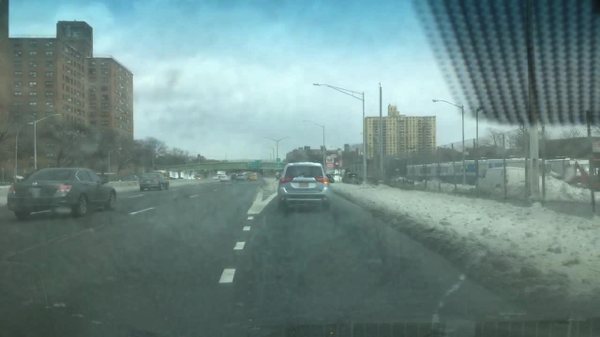car: (6, 167, 117, 219), (277, 162, 330, 215), (475, 167, 529, 194), (137, 172, 169, 191), (341, 171, 357, 184), (120, 174, 138, 183), (325, 173, 334, 183), (220, 175, 230, 182), (235, 174, 245, 180), (175, 176, 185, 181), (164, 176, 175, 180), (249, 174, 257, 179), (231, 173, 236, 180), (212, 176, 220, 180), (246, 172, 250, 179), (193, 176, 200, 180)
traffic sign: (246, 162, 261, 169)
train: (405, 157, 599, 185)
